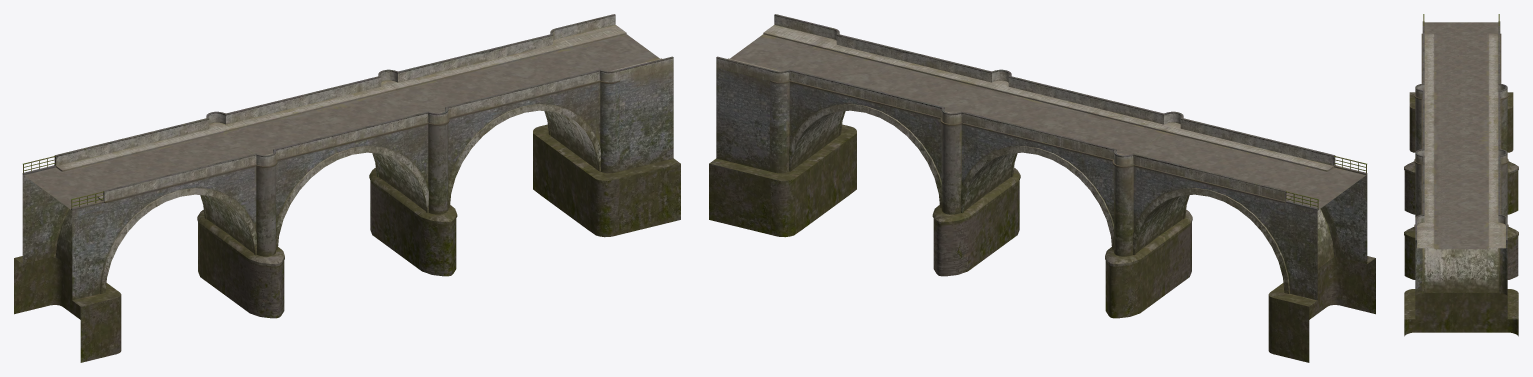
Rendered from stone.glb.
3 renders of one model, left to right at view 1: azimuth 30°, elevation 25°; view 2: azimuth 150°, elevation 25°; view 3: azimuth 270°, elevation 25°, orthographic. The views are drawn at different scales.
Visible parts, largest first — view 1: 3arch_StoneBridge_0; view 2: 3arch_StoneBridge_0; view 3: 3arch_StoneBridge_0.
Boxes of the visible parts, box(x1,y1,x2,y2) form: 3arch_StoneBridge_0: box(14, 14, 680, 362); 3arch_StoneBridge_0: box(709, 14, 1375, 362); 3arch_StoneBridge_0: box(1404, 14, 1518, 336).
Bounding box in the file's own units: 55.51 × 13.98 × 11.89.
Materials: 1 (1 with a texture image).
